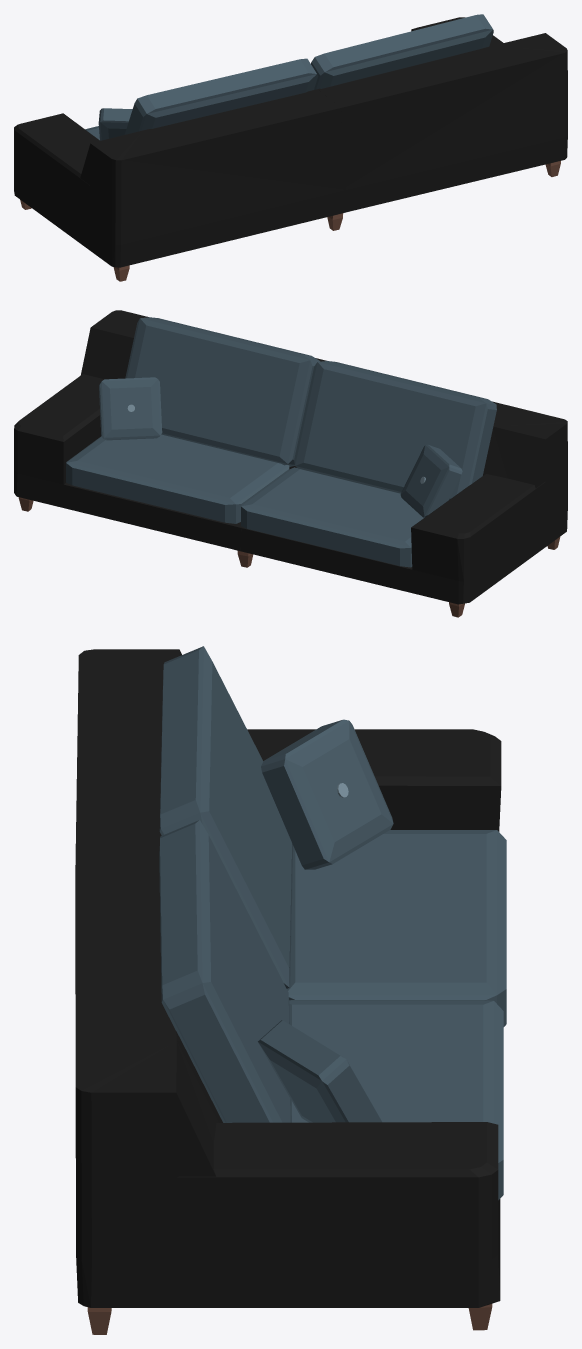
Rendered from Couch_Wide.gltf.
The picture shows the model from 3 angles, top to bottom: view 1: azimuth 30°, elevation 25°; view 2: azimuth 150°, elevation 25°; view 3: azimuth 270°, elevation 25°; orthographic projection. The views are drawn at different scales.
Visible parts, largest first — view 1: Node; view 2: Node; view 3: Node.
Part boxes in pixels (x1,y1,x2,y2): Node: [14, 14, 567, 281]; Node: [14, 310, 567, 617]; Node: [75, 646, 506, 1334].
Bounding box in the file's own units: 1.57 × 0.5129 × 0.6435.
